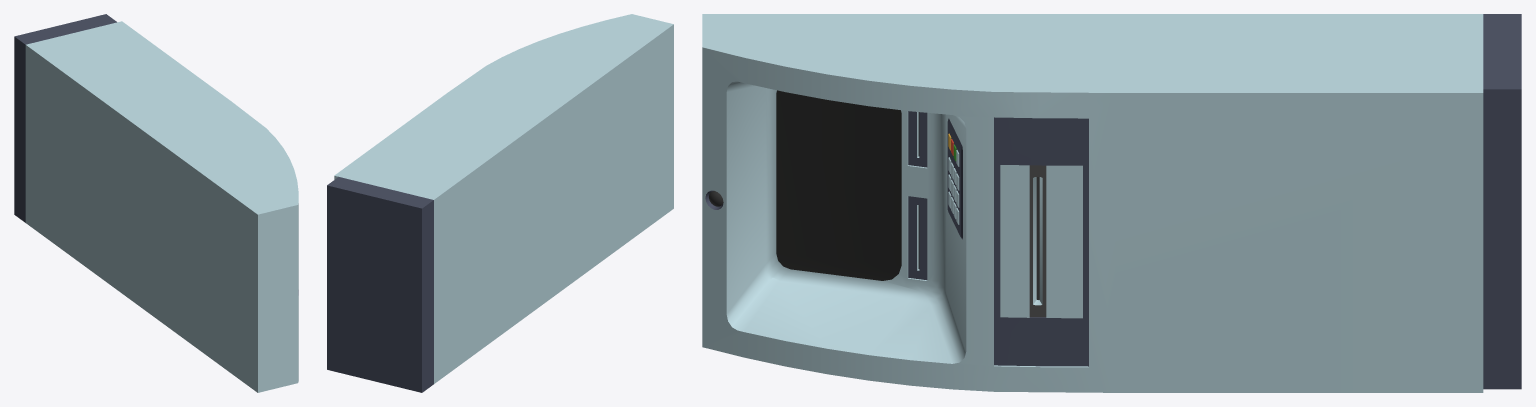
The model's file is ATM.glb.
3 renders of one model, left to right at view 1: azimuth 30°, elevation 25°; view 2: azimuth 150°, elevation 25°; view 3: azimuth 270°, elevation 25°, orthographic. The views are drawn at different scales.
Visible parts, largest first — view 1: 17.4.Model; view 2: 17.4.Model; view 3: 17.4.Model.
Part boxes in pixels (x1,y1,x2,y2): 17.4.Model: (14,14,298,392); 17.4.Model: (327,14,673,392); 17.4.Model: (702,14,1521,392).
Size of what is drawn, in the model's own units: 0.4003 by 0.7075 by 1.75.
1 material, 1 textured.
